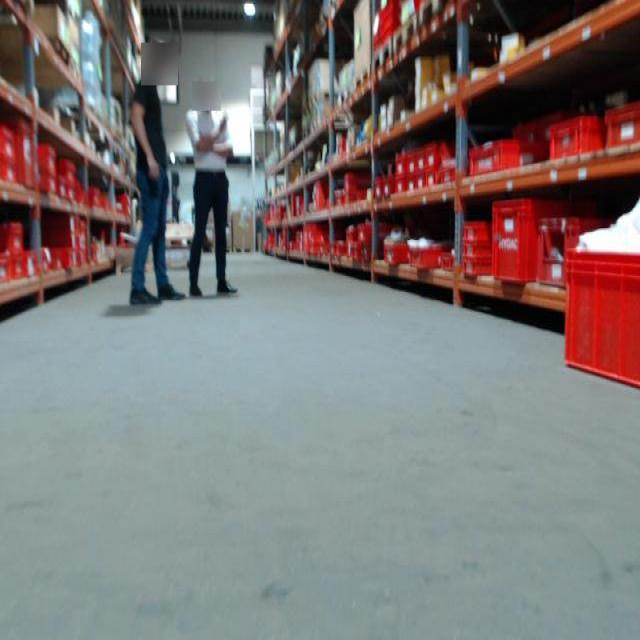pallet: (418, 0, 454, 33), (394, 15, 418, 57), (371, 36, 392, 74), (355, 64, 369, 89)
small_load_carrier: (562, 245, 639, 392), (493, 198, 573, 285), (535, 216, 610, 294), (465, 136, 542, 177), (543, 120, 602, 168), (597, 104, 637, 160), (15, 117, 40, 195), (409, 240, 449, 274), (380, 239, 413, 269), (458, 217, 499, 240), (47, 246, 76, 274), (0, 219, 25, 251), (0, 156, 21, 189), (442, 244, 467, 271), (355, 226, 388, 246), (37, 145, 60, 173), (465, 240, 498, 259), (0, 127, 21, 156), (10, 253, 30, 282), (55, 214, 80, 236), (465, 259, 492, 279), (402, 149, 421, 175), (37, 181, 58, 204), (59, 157, 79, 181), (355, 246, 380, 262), (64, 230, 82, 252), (421, 145, 439, 165), (422, 171, 440, 191), (55, 181, 69, 203), (442, 169, 457, 189), (64, 256, 82, 272), (392, 175, 404, 198), (394, 152, 405, 177), (3, 255, 11, 287), (405, 177, 418, 194)
